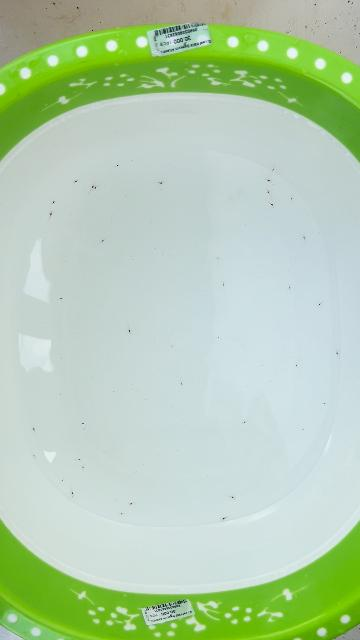benur: (271, 203, 276, 208), (220, 517, 226, 521), (267, 179, 272, 183), (231, 496, 236, 500), (81, 464, 85, 469), (101, 238, 106, 242), (50, 210, 54, 215), (73, 180, 78, 184), (92, 183, 96, 188), (129, 329, 132, 335), (92, 187, 96, 191), (290, 196, 293, 201), (317, 303, 322, 306), (128, 503, 133, 506), (72, 492, 75, 497), (52, 200, 57, 203), (115, 164, 120, 167), (272, 167, 275, 171), (266, 189, 269, 193), (336, 352, 339, 356), (119, 513, 125, 515), (78, 458, 82, 461), (81, 422, 85, 425), (32, 427, 35, 431), (160, 182, 164, 185), (242, 421, 245, 424), (303, 235, 305, 239), (323, 403, 327, 405), (172, 344, 174, 348), (273, 183, 276, 185), (289, 287, 291, 290), (59, 298, 62, 300), (181, 383, 183, 386), (218, 337, 221, 339), (217, 256, 219, 259), (33, 455, 35, 457), (62, 480, 64, 482), (223, 283, 224, 287), (296, 364, 297, 367), (302, 429, 304, 430)
